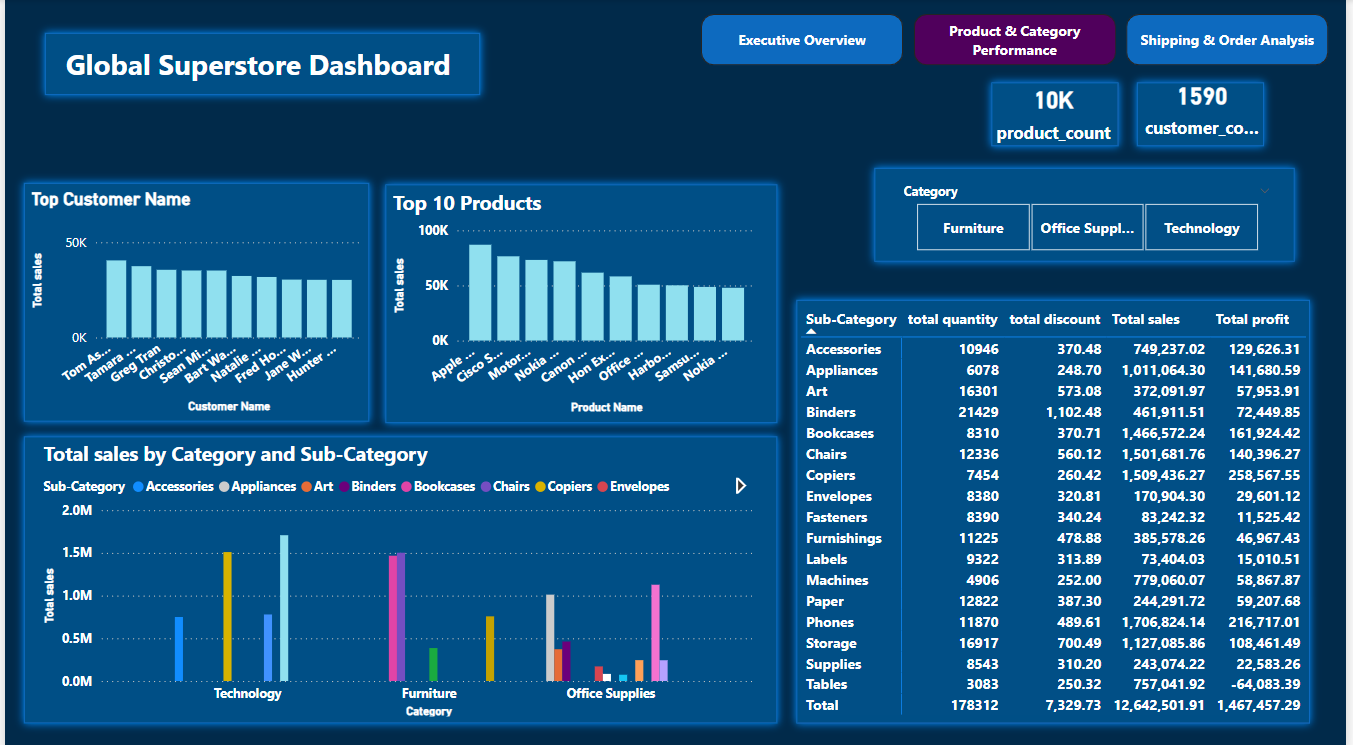

Layout of this report page (visuals, bound fields, positions):
{"tool":"powerbi","page":{"name":"Product & Category Performance","canvas":[1280,720],"ordinal":1},"visuals":[{"type":"shape","box":[812.8,143.2,437.4,125.7],"z":0},{"type":"shape","box":[924.1,62,157.5,97],"z":1000},{"type":"shape","box":[738,268.8,526.5,440.6],"z":2000},{"type":"shape","box":[0,399.2,755.5,310.2],"z":3000},{"type":"shape","box":[345.2,159.1,410.4,264],"z":4000},{"type":"shape","box":[20.7,14.3,451.7,95.4],"z":5000},{"type":"textbox","box":[52.5,38.2,386.5,52.5],"z":6000},{"type":"columnChart","title":"Top 10 Products","fields":{"Category":["Global_Superstore2.Product Name"],"Y":["Global_Superstore2.Total sales"]},"box":[365.8,181.3,356.3,217.9],"z":7000},{"type":"clusteredColumnChart","fields":{"Series":["Global_Superstore2.Sub-Category"],"Category":["Global_Superstore2.Category"],"Y":["Global_Superstore2.Total sales"]},"box":[31.8,421.5,690.3,268.8],"z":8000},{"type":"pivotTable","fields":{"Rows":["Global_Superstore2.Sub-Category"],"Values":["Global_Superstore2.total quantity","Global_Superstore2.total discount","Global_Superstore2.Total sales","Global_Superstore2.Total profit"]},"box":[755.5,289.5,494.7,400.8],"z":9000},{"type":"shape","box":[0,157.5,365.8,264],"z":10000},{"type":"clusteredColumnChart","title":"Top Customer Name","fields":{"Category":["Global_Superstore2.Customer Name"],"Y":["Global_Superstore2.Total sales"]},"box":[19.9,180.7,325.6,218.4],"z":11000},{"type":"card","fields":{"Values":["Global_Superstore2.product_count"]},"box":[940.1,65.2,122.5,81.1],"z":12000},{"type":"shape","box":[1062.5,62,157.5,97],"z":13000},{"type":"card","fields":{"Values":["Global_Superstore2.customer_count"]},"box":[1081.6,62,122.5,81.1],"z":14000},{"type":"slicer","fields":{"Values":["Global_Superstore2.Category"]},"box":[844.6,170.2,375.4,76.3],"z":15000},{"type":"pageNavigator","box":[665.2,13.9,599.6,49.6],"z":16000}]}

Visuals, with their boxes in screenshot pixels (x1, y1, x2, y2), scaled from the page's 1280x720 canvas onto the 1353x745 screenshot:
shape: 859,148,1322,278
shape: 977,64,1143,165
shape: 780,278,1337,734
shape: 0,413,799,734
shape: 365,165,799,438
shape: 22,15,499,114
textbox: 55,40,464,94
"Top 10 Products" columnChart: 387,188,763,413
clusteredColumnChart - Global_Superstore2.Sub-Category x Global_Superstore2.Category: 34,436,763,714
pivotTable - Global_Superstore2.Sub-Category x Global_Superstore2.total quantity: 799,300,1322,714
shape: 0,163,387,436
"Top Customer Name" clusteredColumnChart: 21,187,365,413
card - Global_Superstore2.product_count: 994,67,1123,151
shape: 1123,64,1290,165
card - Global_Superstore2.customer_count: 1143,64,1273,148
slicer - Global_Superstore2.Category: 893,176,1290,255
pageNavigator: 703,14,1337,66
